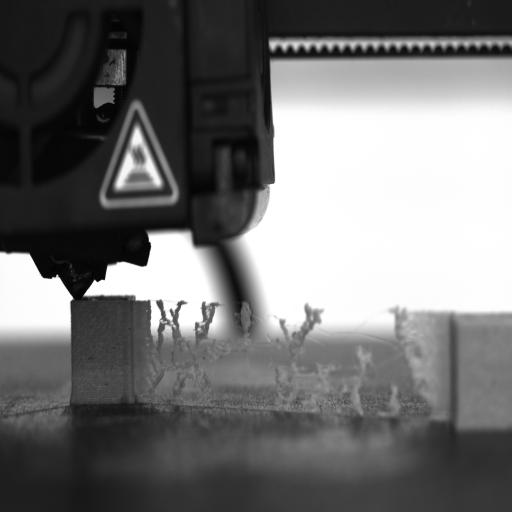spaghetti_and_stringing: (143, 298, 239, 402), (266, 303, 332, 408), (386, 304, 434, 414)
